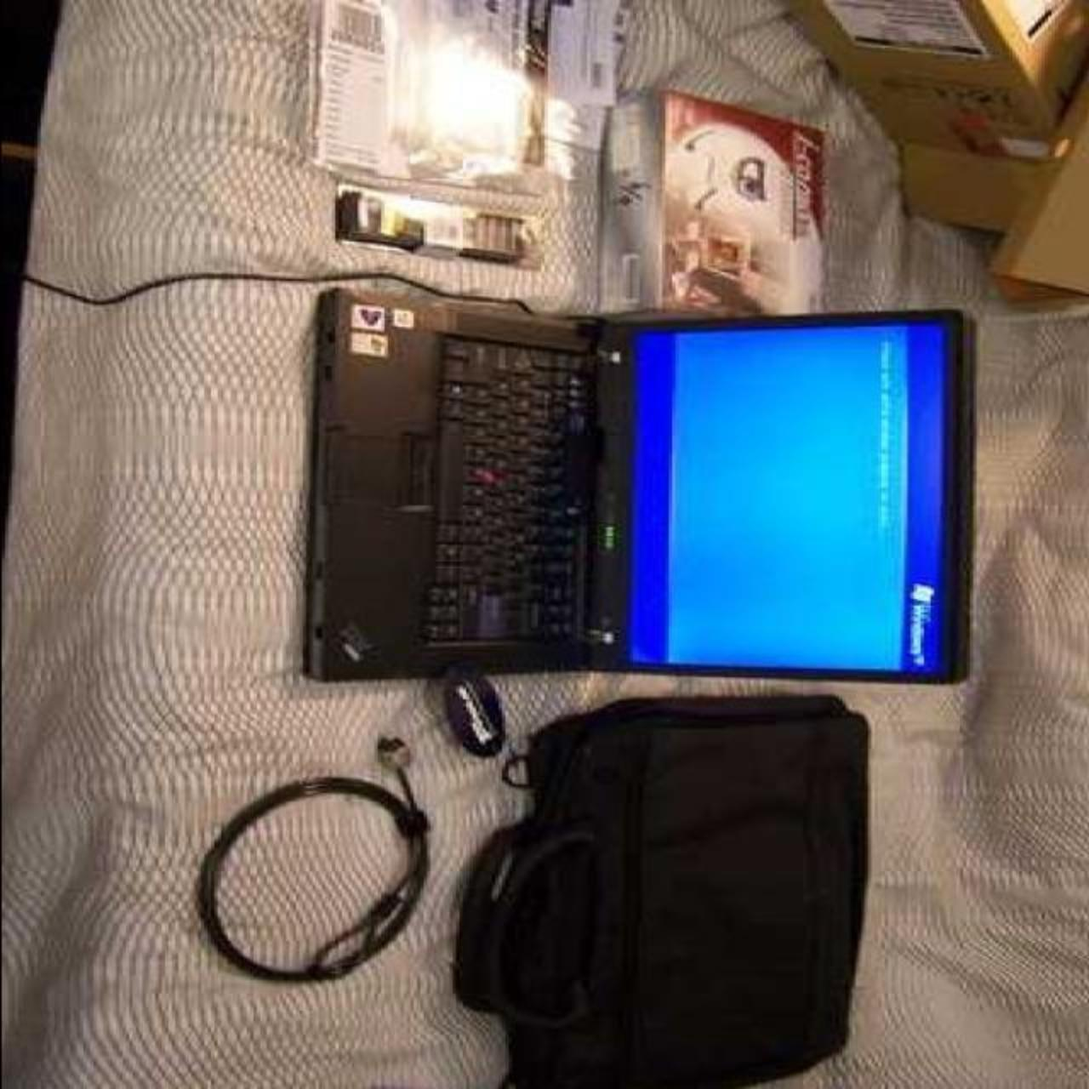laptop: (386, 297, 958, 690)
